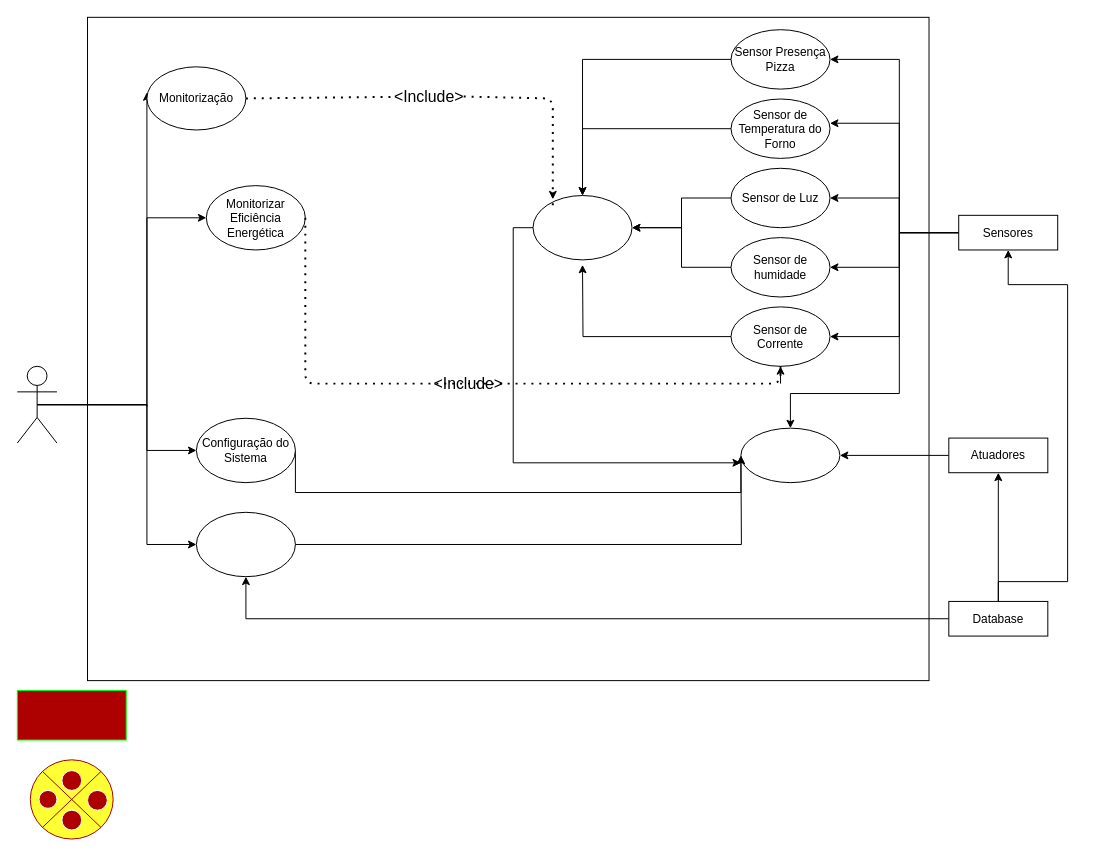
Image size: 1093x856. Some labels were removed from this diagram. The shapes that lost their labels are listed below. From the top down, each one's box as (x1, y1, x2, y2) in pixels, then its label:
(532, 195, 632, 260): Leitura dos Dados
(16, 365, 57, 443): Admin
(740, 427, 840, 483): Tomar Ações
(195, 511, 295, 577): Define regras
(16, 690, 126, 740): PIZZATRONI 3000
